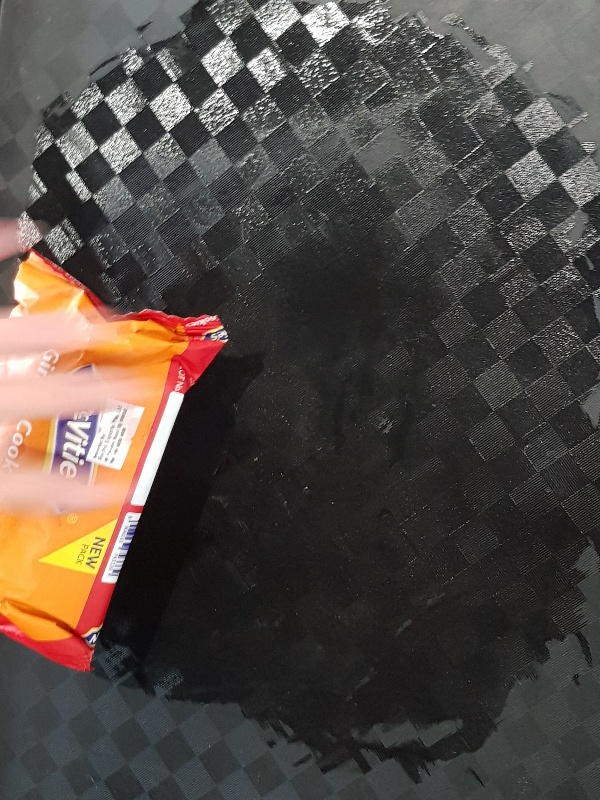McVitie's Ginger Cookies: (1, 246, 231, 676)
